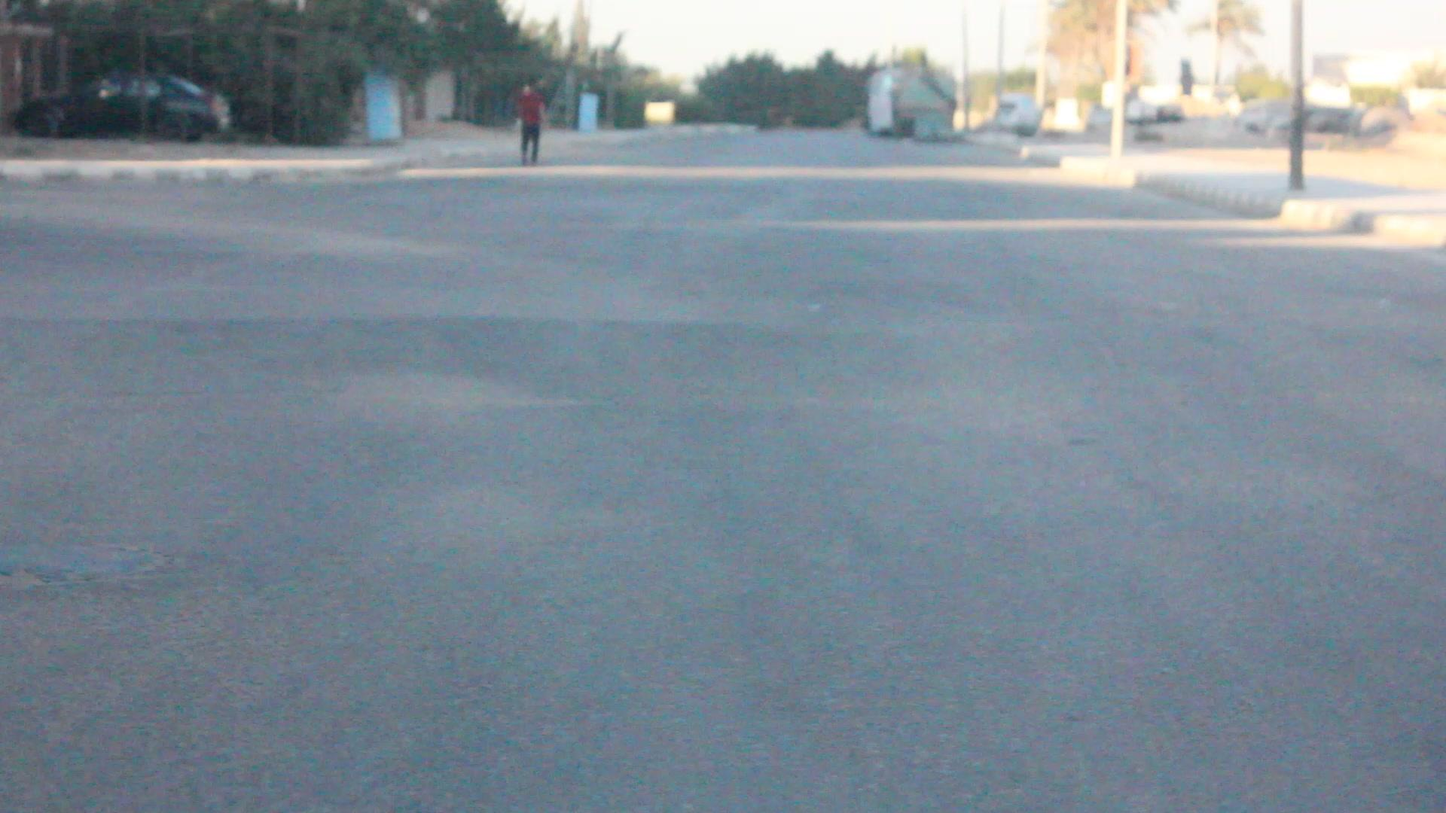Bump: (0, 299, 1446, 373)
